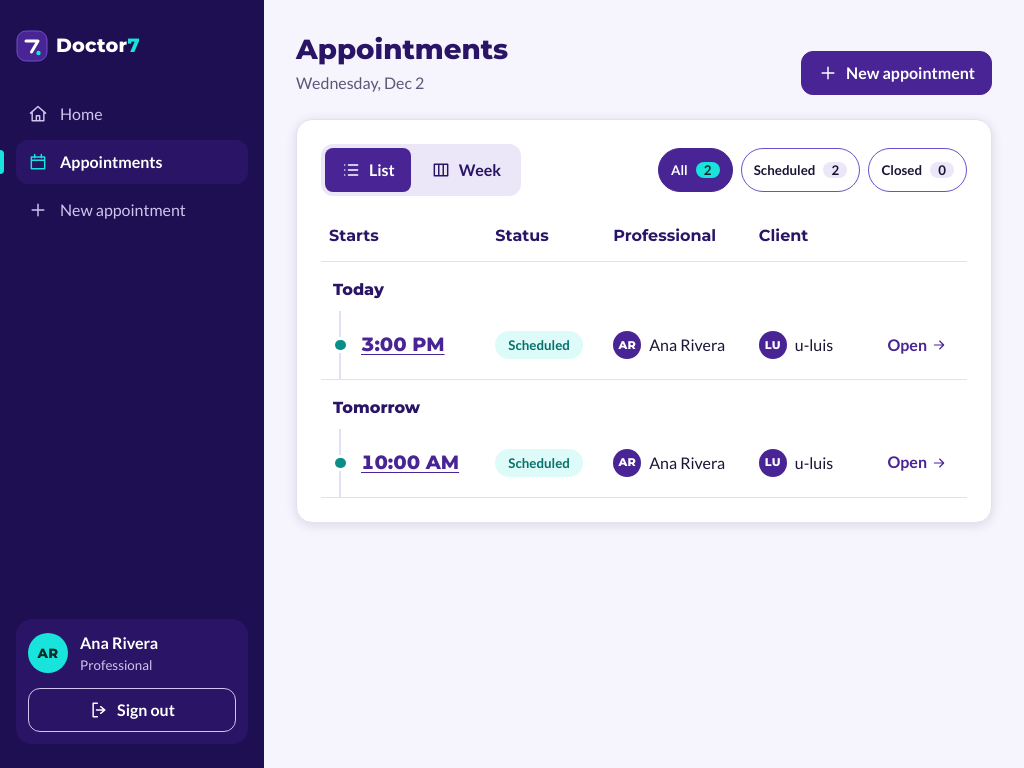
Test: Appointments filters › explains a filter with no result, and shows everything again on request
Check: the table is shown, box [321,212,967,498]
Click the button "Closed 0" at (918, 170), box [868,148,967,192]
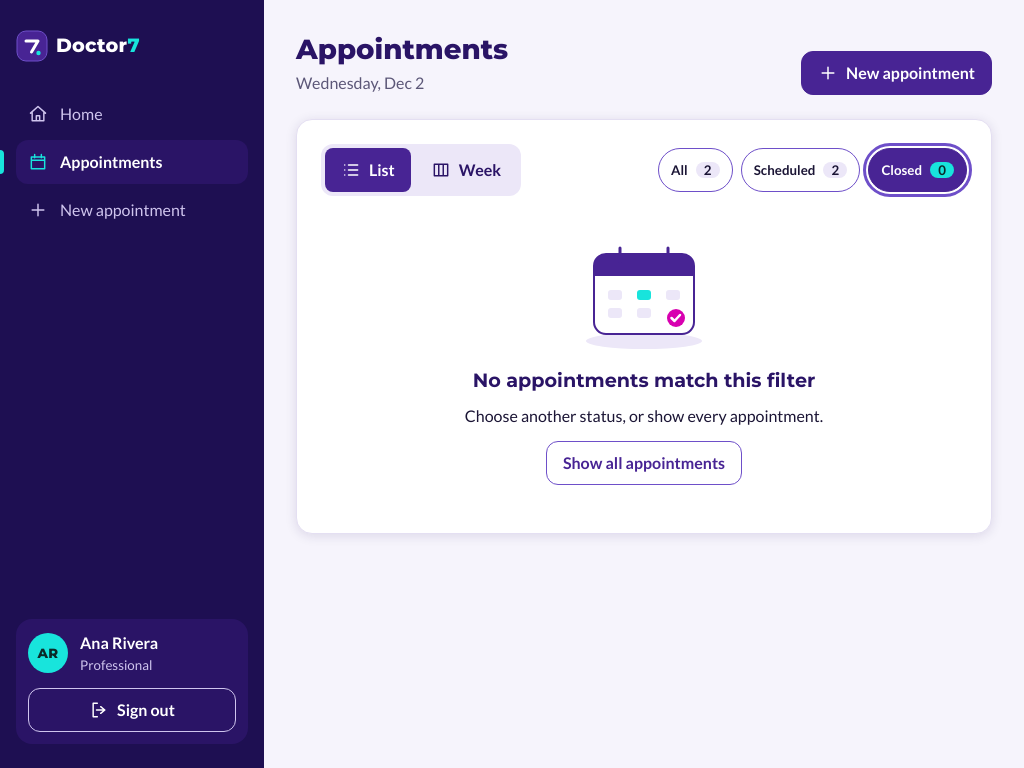
Check: the heading "No appointments match this filter" is shown, box [473,368,815,392]
Check: the table is gone
Click the button "Show all appointments" at (644, 463), box [546,441,742,485]
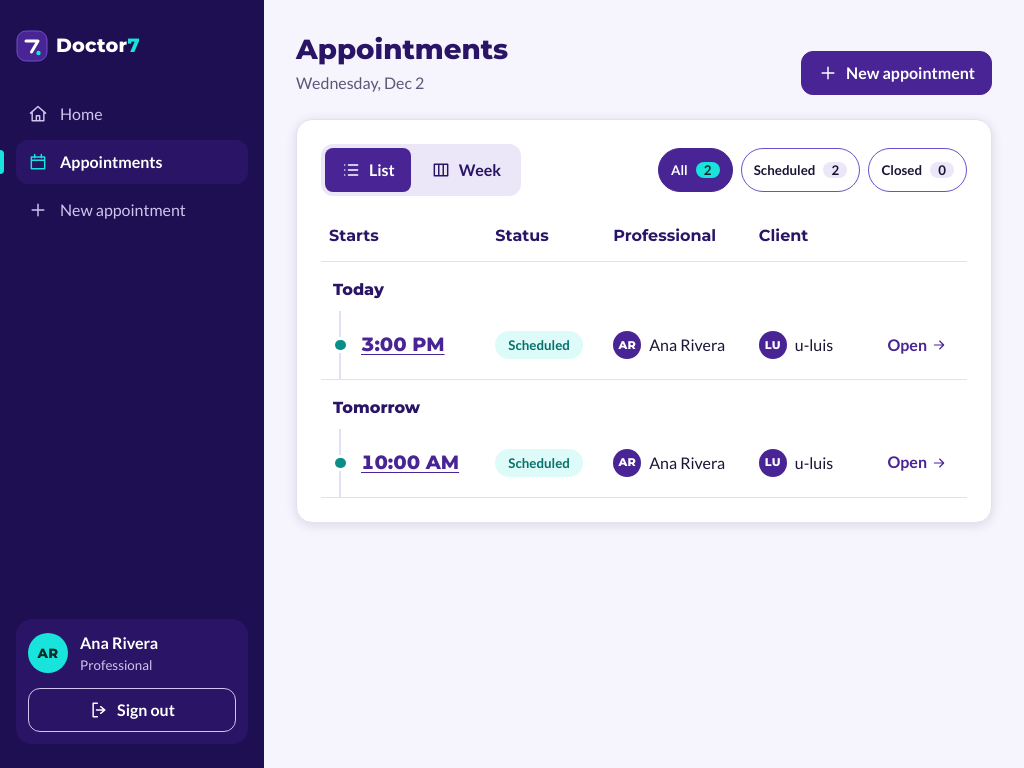
Check: the table is shown, box [321,212,967,498]
